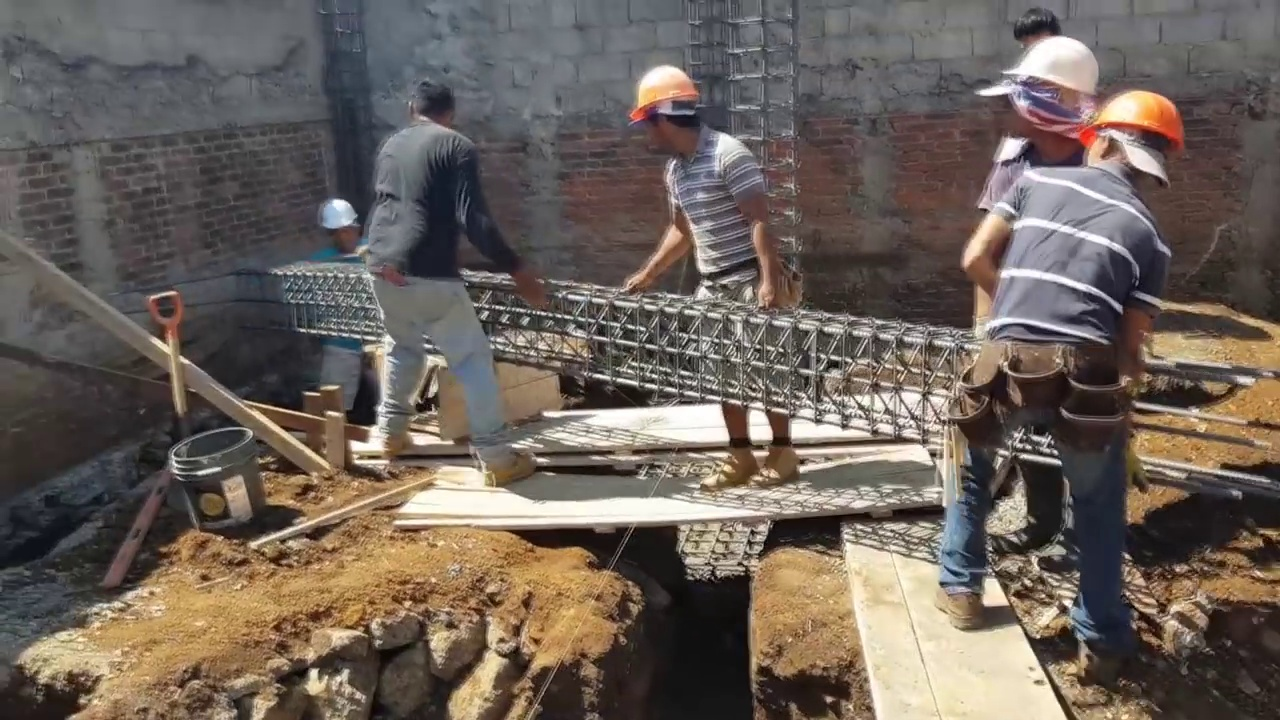helmet: (1076, 89, 1189, 157), (1001, 34, 1102, 97), (630, 65, 699, 119), (318, 200, 358, 231)
helmet-off: (410, 81, 457, 131), (1014, 7, 1065, 46)
helmet-on: (1002, 34, 1101, 165), (1076, 88, 1189, 189), (629, 64, 708, 156), (319, 200, 359, 254)
person: (933, 88, 1201, 681), (624, 63, 797, 488), (369, 81, 543, 488), (977, 33, 1098, 227), (307, 199, 374, 414)
